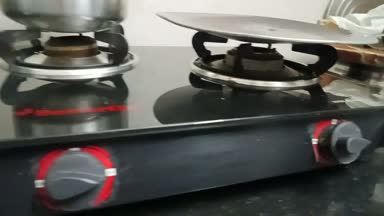flame_gas_off: (214, 36, 370, 170), (11, 25, 125, 208)
